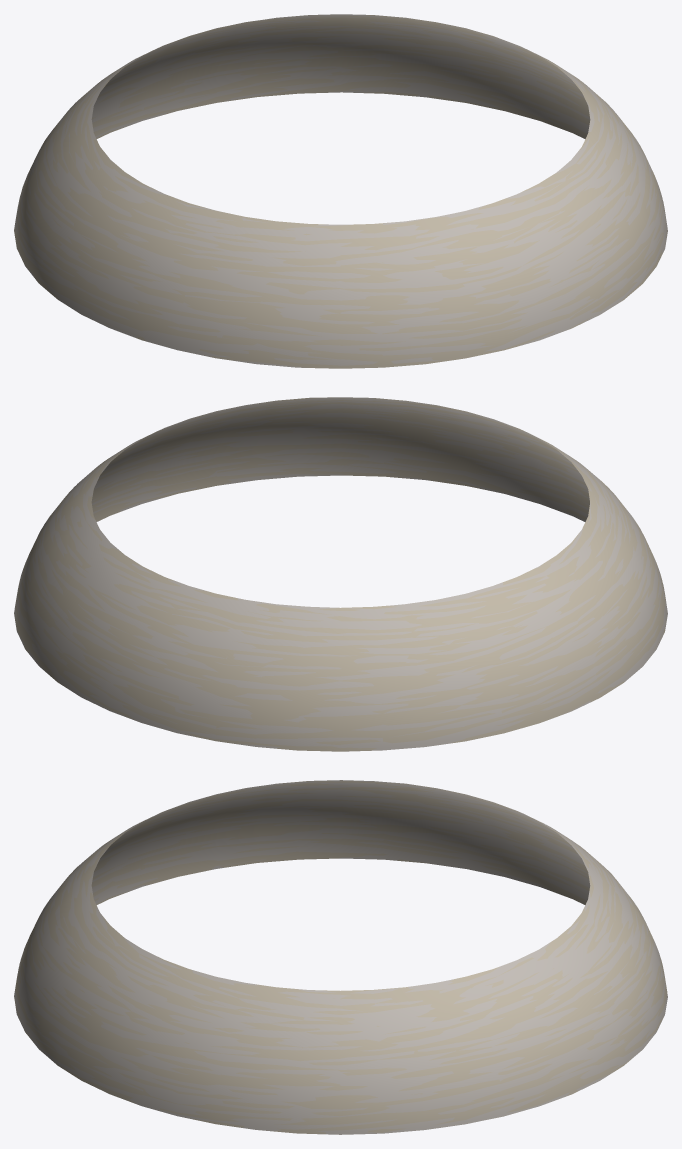
Rendered from original_6.obj.
The picture shows the model from 3 angles, top to bottom: view 1: azimuth 30°, elevation 25°; view 2: azimuth 150°, elevation 25°; view 3: azimuth 270°, elevation 25°; orthographic projection.
Visible parts, largest first — view 1: #ID265; view 2: #ID265; view 3: #ID265.
Part boxes in pixels (left/top/right/bottom): #ID265: left=14, top=14, right=667, bottom=368; #ID265: left=14, top=397, right=667, bottom=751; #ID265: left=14, top=780, right=667, bottom=1134.
Bounding box in the file's own units: 0.7318 × 0.1375 × 0.732.
Materials: 2 (1 with a texture image).
